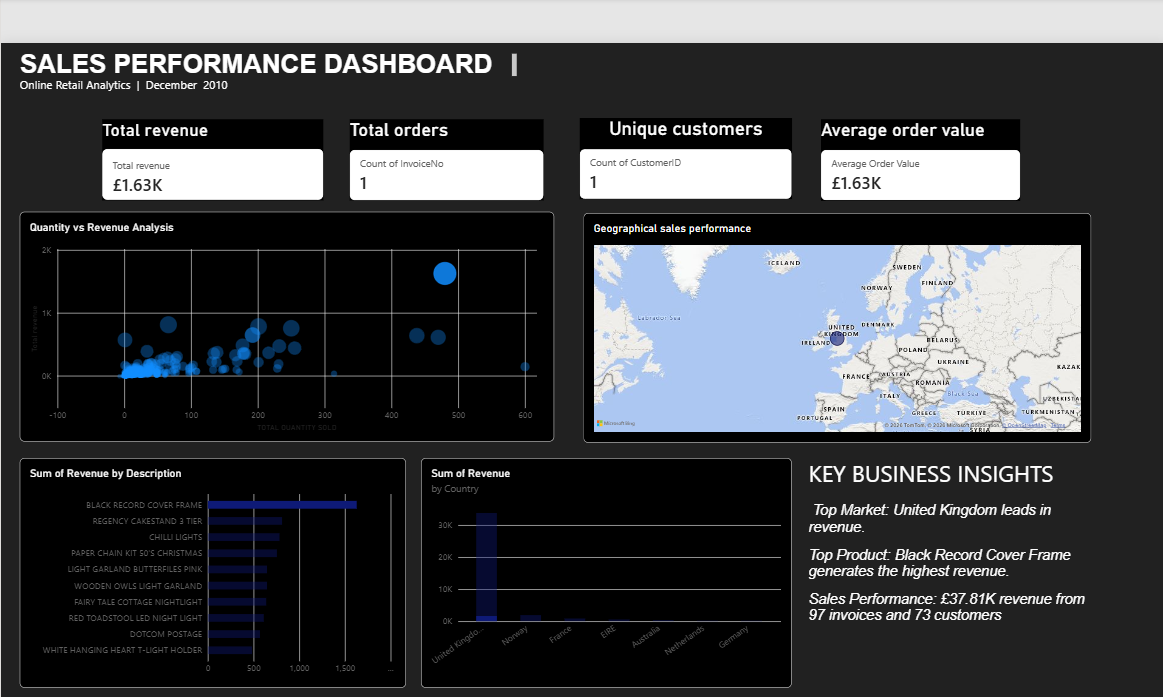

This screenshot's page, from the dashboard's own definition file:
{"tool":"powerbi","page":{"name":"Page 1","canvas":[1920,1080],"ordinal":0},"visuals":[{"type":"cardVisual","title":"Total revenue","fields":{"Data":["Sum(practice_2000.Revenue )"]},"box":[166,126,364.3,133.8],"z":1000},{"type":"cardVisual","title":"Total orders ","fields":{"Data":["Count(practice_2000.InvoiceNo)"]},"box":[574,126,319,133.8],"z":1001},{"type":"cardVisual","title":"Unique customers","fields":{"Data":["Count(practice_2000.CustomerID)"]},"box":[952,124,349.9,133.8],"z":1002},{"type":"map","title":"Geographical sales performance ","fields":{"Category":["practice_2000.Country"],"Size":["Sum(practice_2000.Revenue )"]},"box":[960,280,836,378],"z":1003},{"type":"clusteredBarChart","fields":{"Category":["practice_2000.Description"],"Y":["Sum(practice_2000.Revenue )"]},"box":[30,684,636,378],"z":1004},{"type":"clusteredColumnChart","fields":{"Category":["practice_2000.Country"],"Y":["Sum(practice_2000.Revenue )"]},"box":[692,684,610,378],"z":1005},{"type":"textbox","box":[30,14,818,42],"z":1006},{"type":"textbox","box":[30,56,704,46],"z":1007},{"type":"textbox","box":[1330,684,466,378],"z":1008},{"type":"scatterChart","title":"Quantity vs Revenue Analysis ","fields":{"Category":["practice_2000.Description"],"Size":["practice_2000.Total revenue"],"X":["practice_2000.TOTAL OUANTITY SOLD"],"Y":["practice_2000.Total revenue"]},"box":[30,278,880,378],"z":1010},{"type":"cardVisual","title":"Average order value","fields":{"Data":["practice_2000.Average Order Value"]},"box":[1350,126,328,134],"z":1011}]}

Visuals, with their boxes on the page's 1920x1080 design canvas (x1, y1, x2, y2). These are canvas units, not pixel positions in the 1163x697 screenshot, which may show the page scaled, cropped or inside an application window:
"Total revenue" cardVisual: (left=166, top=126, right=530, bottom=260)
"Total orders " cardVisual: (left=574, top=126, right=893, bottom=260)
"Unique customers" cardVisual: (left=952, top=124, right=1302, bottom=258)
"Geographical sales performance " map: (left=960, top=280, right=1796, bottom=658)
clusteredBarChart - practice_2000.Description x Sum(practice_2000.Revenue ): (left=30, top=684, right=666, bottom=1062)
clusteredColumnChart - practice_2000.Country x Sum(practice_2000.Revenue ): (left=692, top=684, right=1302, bottom=1062)
textbox: (left=30, top=14, right=848, bottom=56)
textbox: (left=30, top=56, right=734, bottom=102)
textbox: (left=1330, top=684, right=1796, bottom=1062)
"Quantity vs Revenue Analysis " scatterChart: (left=30, top=278, right=910, bottom=656)
"Average order value" cardVisual: (left=1350, top=126, right=1678, bottom=260)
